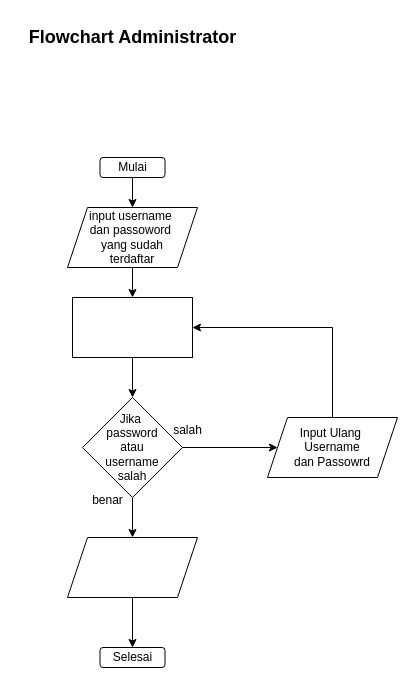
The diagram is 415 pixels wide and 685 high, and some of its shapes have lost their labels. The shapes that lost their labels are listed below. From the top down, each one's centre as x and y in pixels, then its label:
At [132,327]: "Sistem Melakukan Validasi".
At [132,567]: "Masuk Ke beranda Akun".
